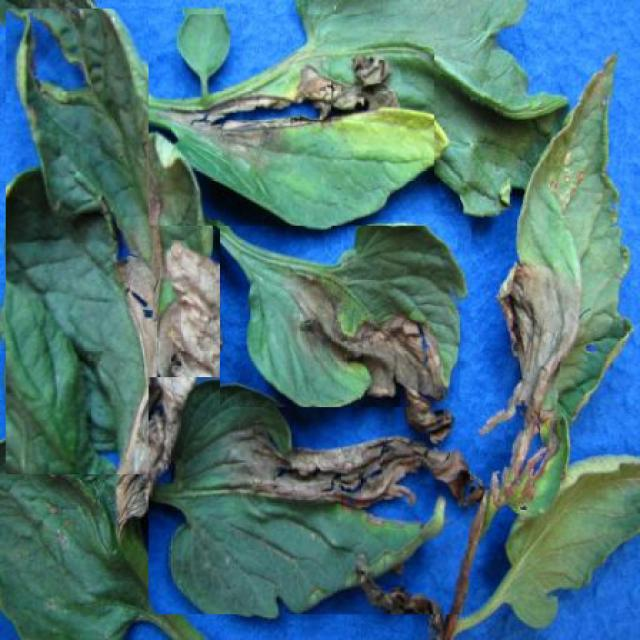Late Blight: (6, 9, 225, 474), (150, 377, 470, 614), (484, 51, 634, 493), (148, 15, 435, 226), (220, 216, 471, 408)
